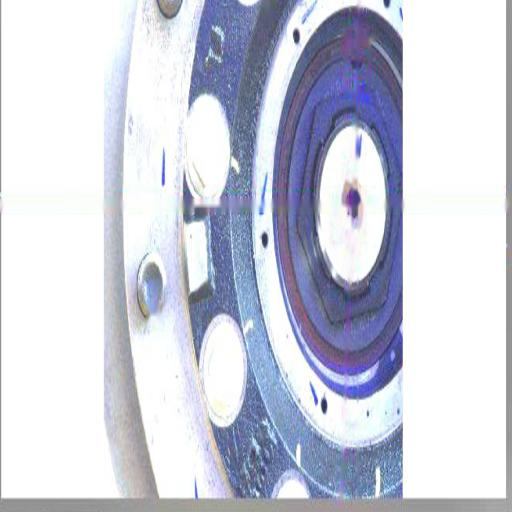center: (342, 184, 364, 221)
notch: (348, 54, 368, 80)
